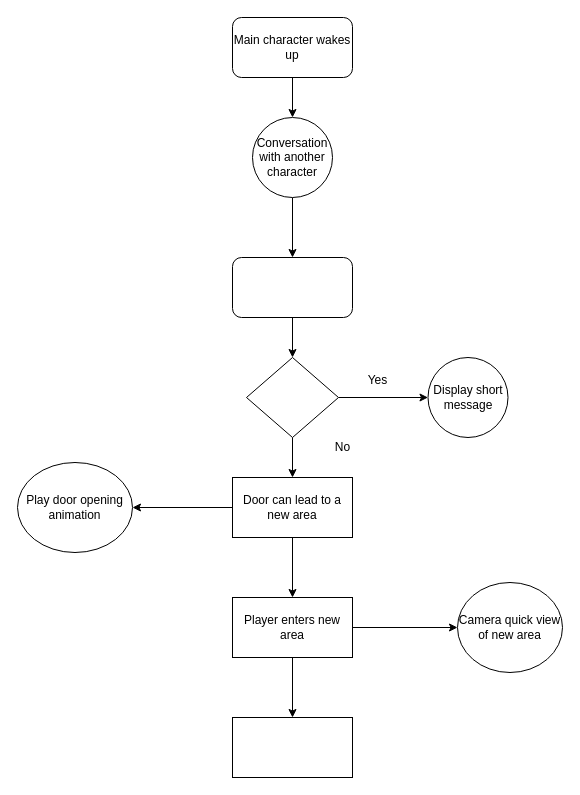
Some shapes in this 580 by 795 pixel diagram are drawn without their labels. The shapes that lost their labels are listed below. From the top down, each one's centre as x and y in pixels, then its label:
At (292,287): "Ability to move around and click on things".
At (292,397): "Player clicks".
At (292,747): "Give the player the ability to freely explore".
